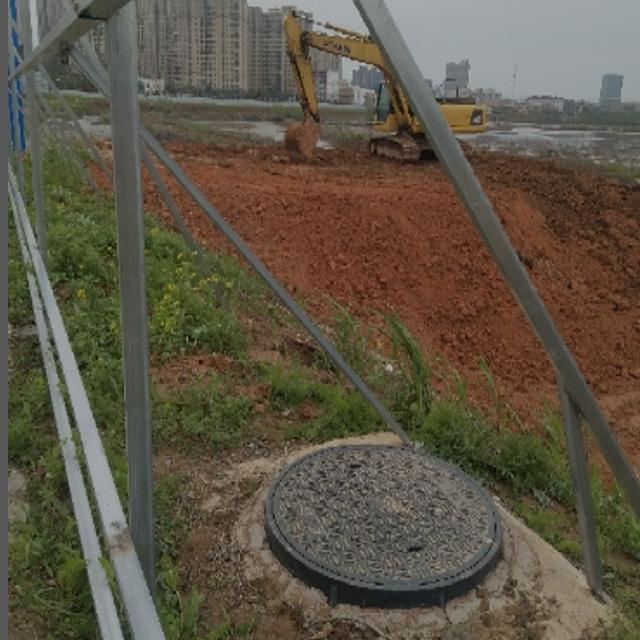good: (263, 442, 500, 601)
